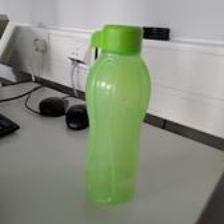bottle: (76, 23, 155, 208)
